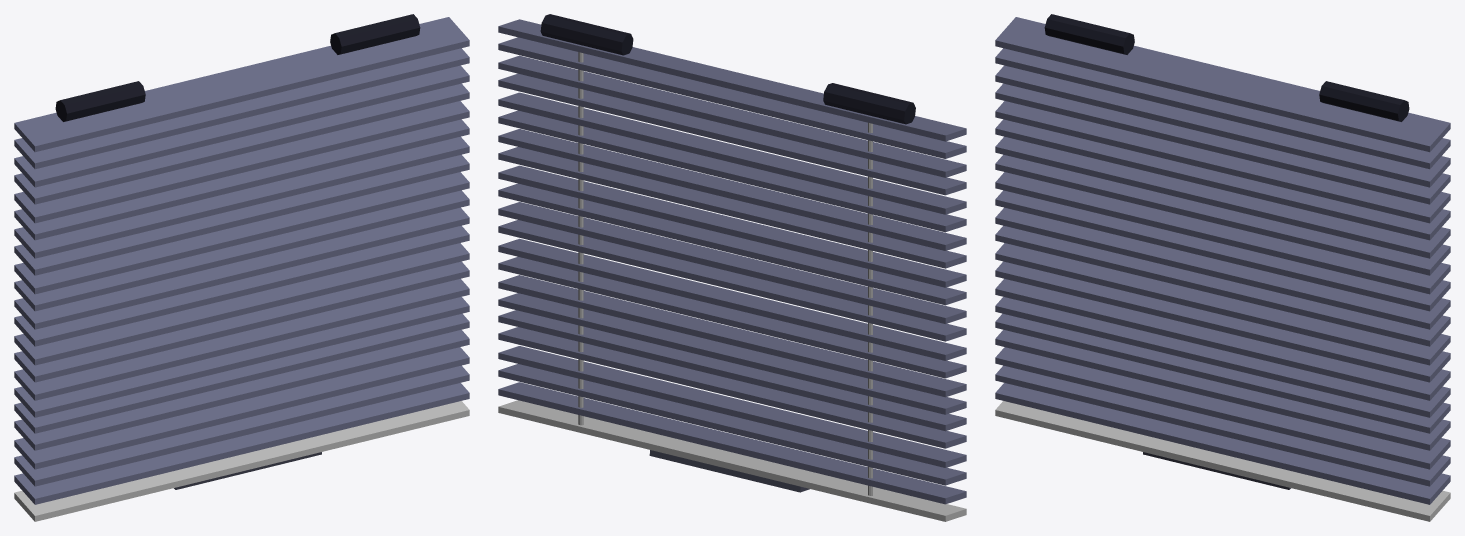
Rendered from curtain.fbx.
3 renders of one model, left to right at view 1: azimuth 30°, elevation 25°; view 2: azimuth 150°, elevation 25°; view 3: azimuth 330°, elevation 25°, orthographic. The views are drawn at different scales.
Visible parts, largest first — view 1: curtain; view 2: curtain; view 3: curtain.
Boxes of the visible parts, x1,y1,x2,y2 form: curtain: (14, 14, 469, 521); curtain: (498, 14, 966, 521); curtain: (995, 14, 1450, 521).
Bounding box in the file's own units: 10.72 × 9.58 × 0.8837.
Materials: 1 (1 with a texture image).
